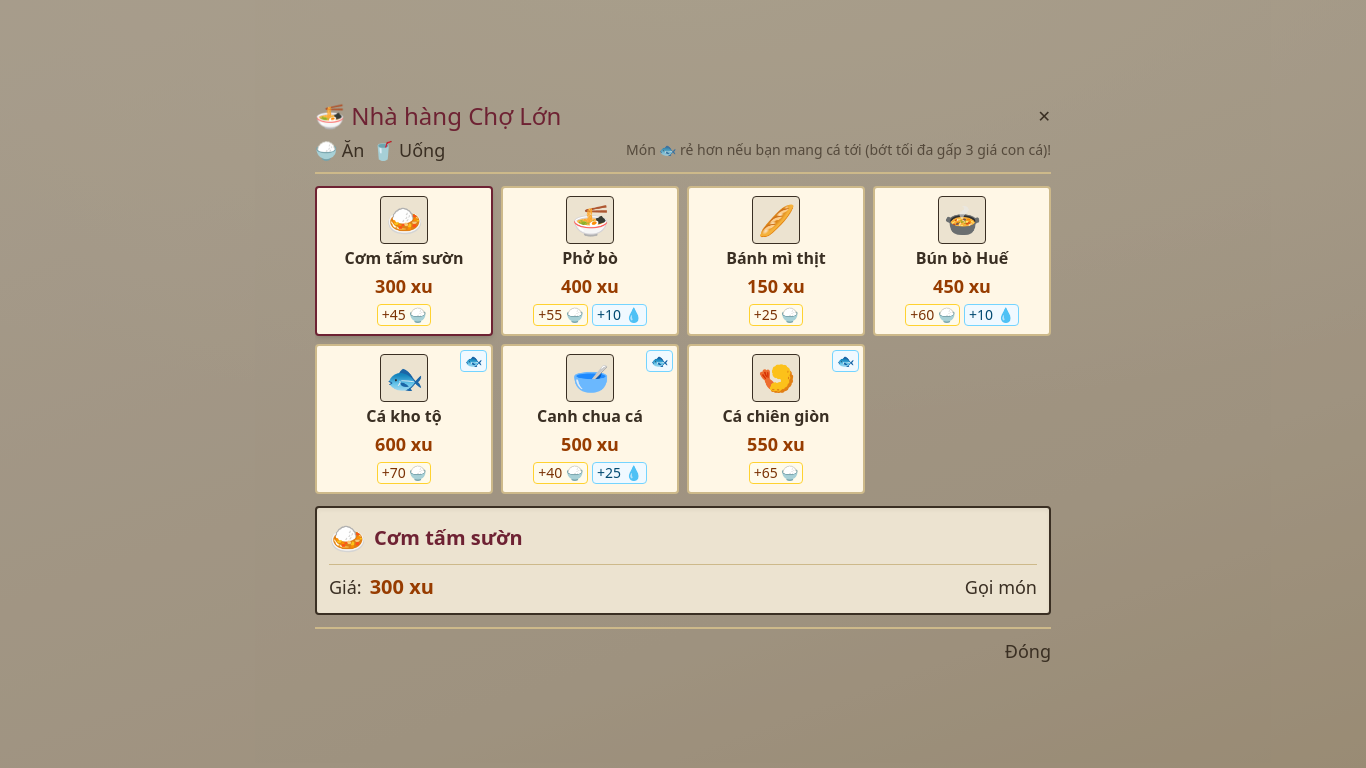
Test: RestaurantModal › offers the bag's fish on a fish dish and discounts the price
Click the button "🐟 🐟 Cá kho tộ 600 xu +70 🍚" at (404, 418), box [315, 344, 493, 494]
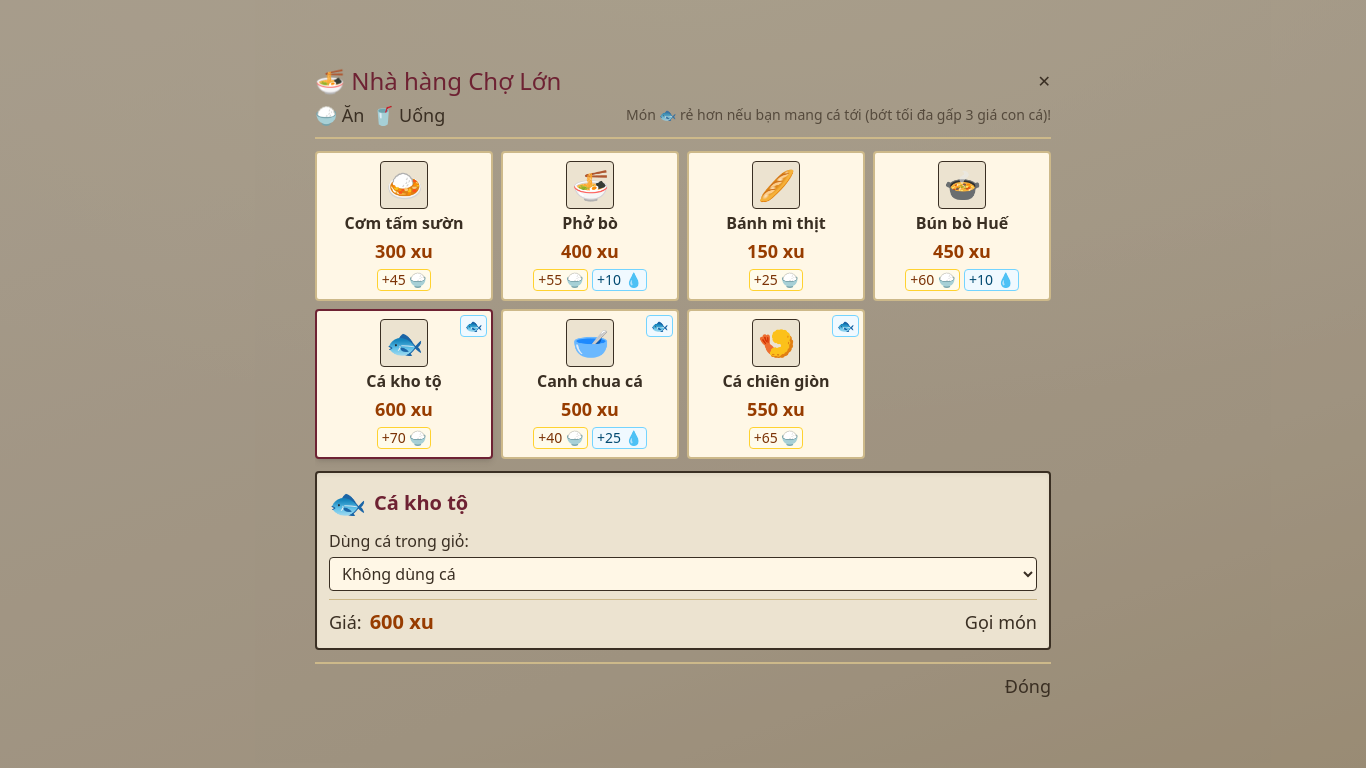
Now the dropdown named "Chọn cá" shows "Không dùng cá"
Select "Cá lóc · 2.6 kg · giá 90 xu · −270 xu" in the dropdown named "Chọn cá" at (683, 574), box [329, 556, 1037, 590]
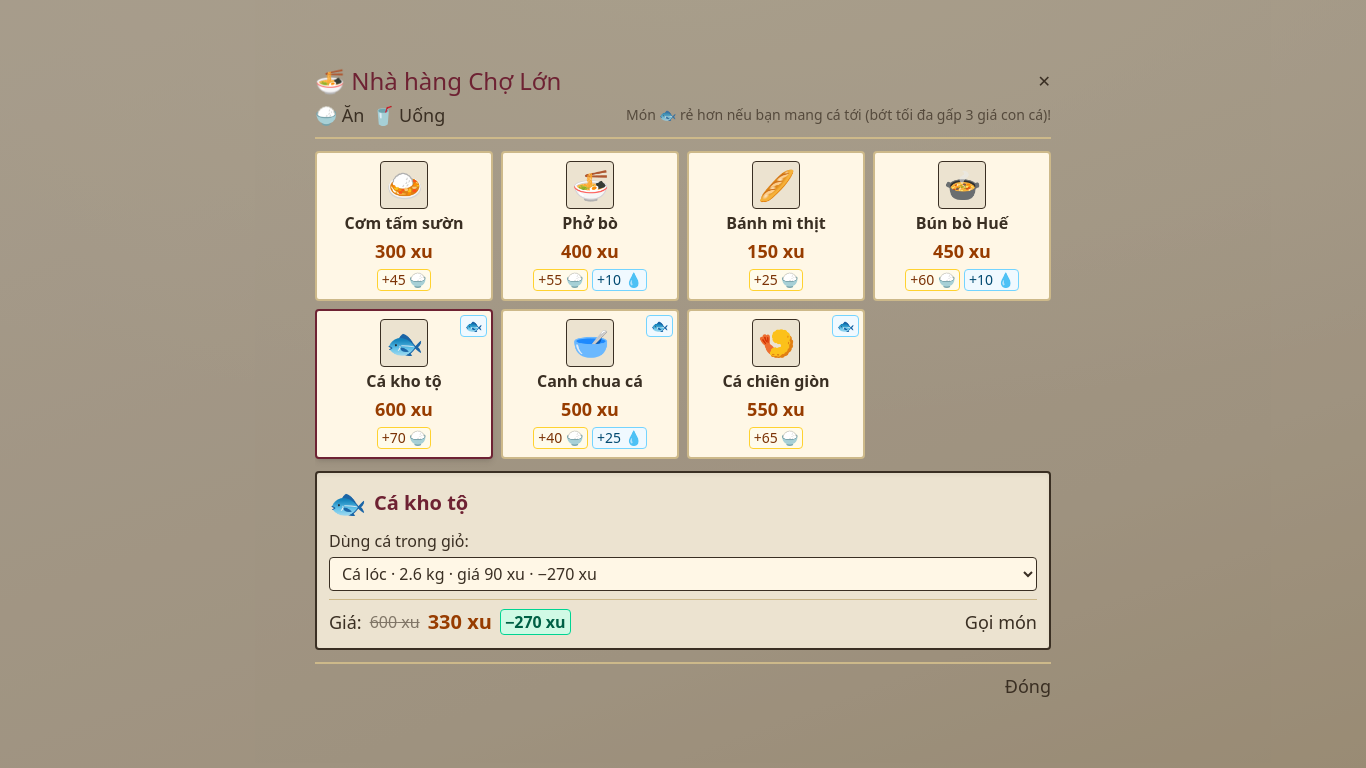
Now the text "−270 xu" is shown, box [500, 608, 571, 634]
